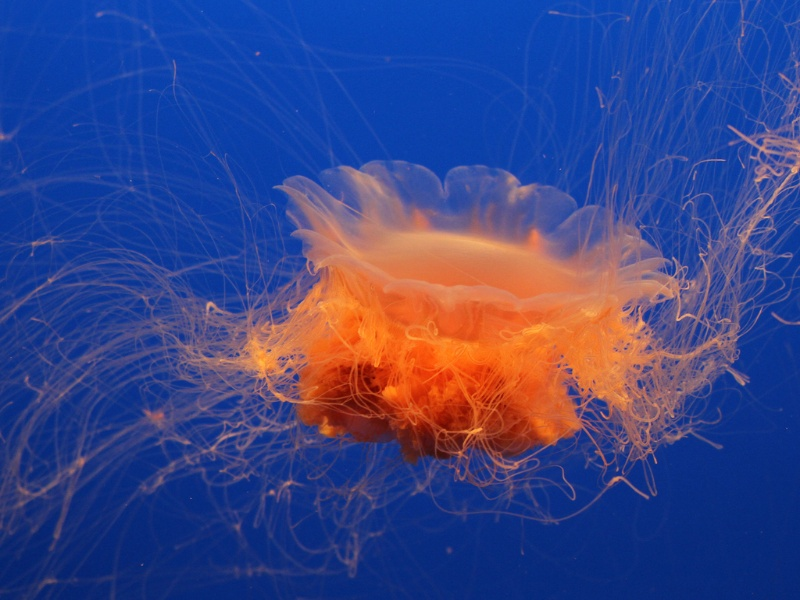Jellyfish: (0, 2, 799, 599)
